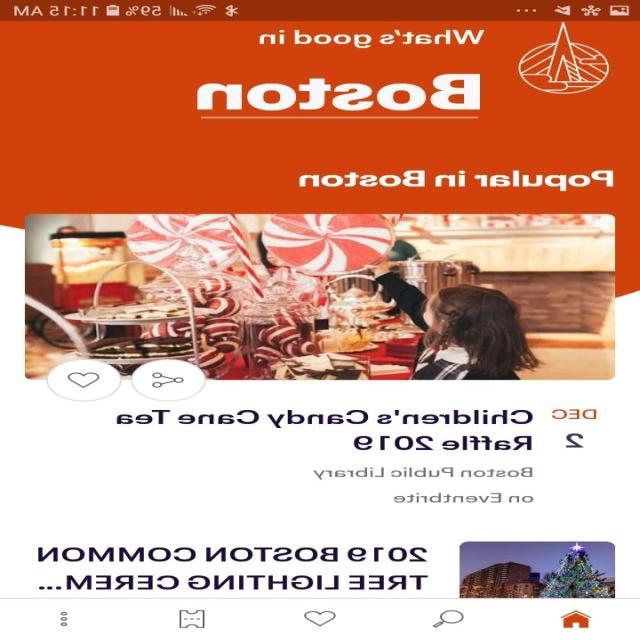Icon: (132, 358, 207, 401), (47, 359, 123, 401), (432, 609, 464, 628), (560, 610, 592, 628), (304, 610, 337, 626), (180, 609, 206, 628), (60, 611, 68, 626)
Image: (25, 213, 616, 380), (460, 541, 616, 598), (518, 21, 609, 94)
Text: (117, 409, 598, 450), (39, 546, 429, 589), (197, 74, 481, 110), (313, 467, 534, 502), (300, 170, 614, 192), (260, 29, 486, 49)
